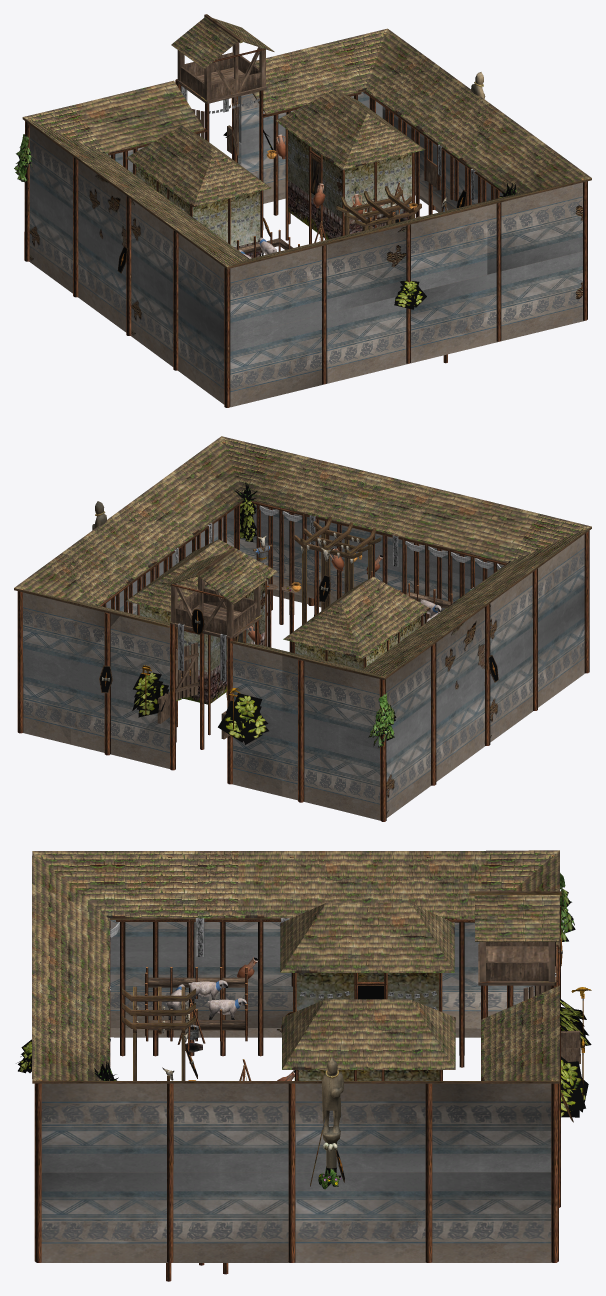
Rendered from gaul_wonder.glb.
3 renders of one model, top to bottom at view 1: azimuth 30°, elevation 25°; view 2: azimuth 150°, elevation 25°; view 3: azimuth 270°, elevation 25°, orthographic. The views are drawn at different scales.
Visible parts, largest first — view 1: gaul_wonder_part2, gaul_wonder_part1, gaul_wonder_part0, gaul_wonder_part4, gaul_wonder_part6; view 2: gaul_wonder_part2, gaul_wonder_part1, gaul_wonder_part0, gaul_wonder_part4; view 3: gaul_wonder_part2, gaul_wonder_part1, gaul_wonder_part0, gaul_wonder_part4, gaul_wonder_part5, gaul_wonder_part42.
Part boxes in pixels (x1,y1,x2,y2): gaul_wonder_part2: (29,92,584,407); gaul_wonder_part1: (23,17,591,266); gaul_wonder_part0: (22,14,591,407); gaul_wonder_part4: (14,130,516,309); gaul_wonder_part6: (276,134,384,213); gaul_wonder_part2: (23,505,584,820); gaul_wonder_part1: (14,436,591,677); gaul_wonder_part0: (14,441,591,821); gaul_wonder_part4: (132,482,396,747); gaul_wonder_part2: (41,920,552,1262); gaul_wonder_part1: (32,850,559,1080); gaul_wonder_part0: (32,855,580,1281); gaul_wonder_part4: (16,873,591,1117); gaul_wonder_part5: (145,967,247,1041); gaul_wonder_part42: (321,1057,343,1168).
Bounding box in the file's own units: 6.49 × 4.13 × 6.5.
Materials: 20 (20 with a texture image).
